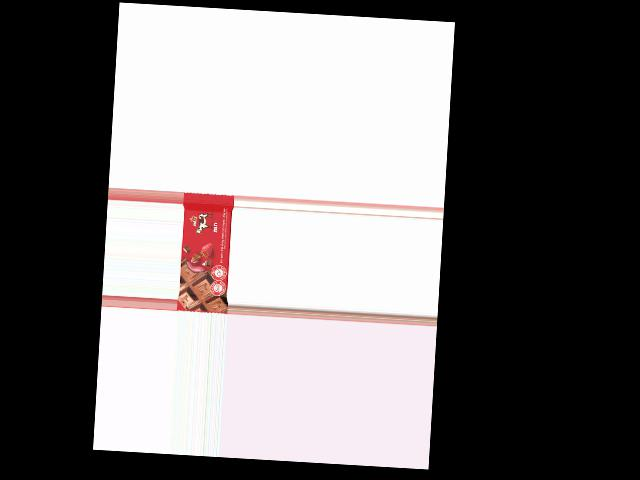chocolate: (177, 191, 234, 312)
